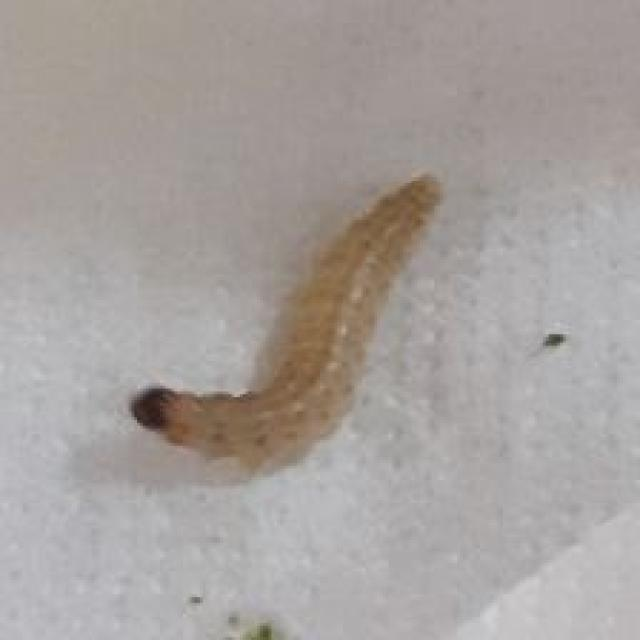white mucus: (120, 129, 510, 529)
